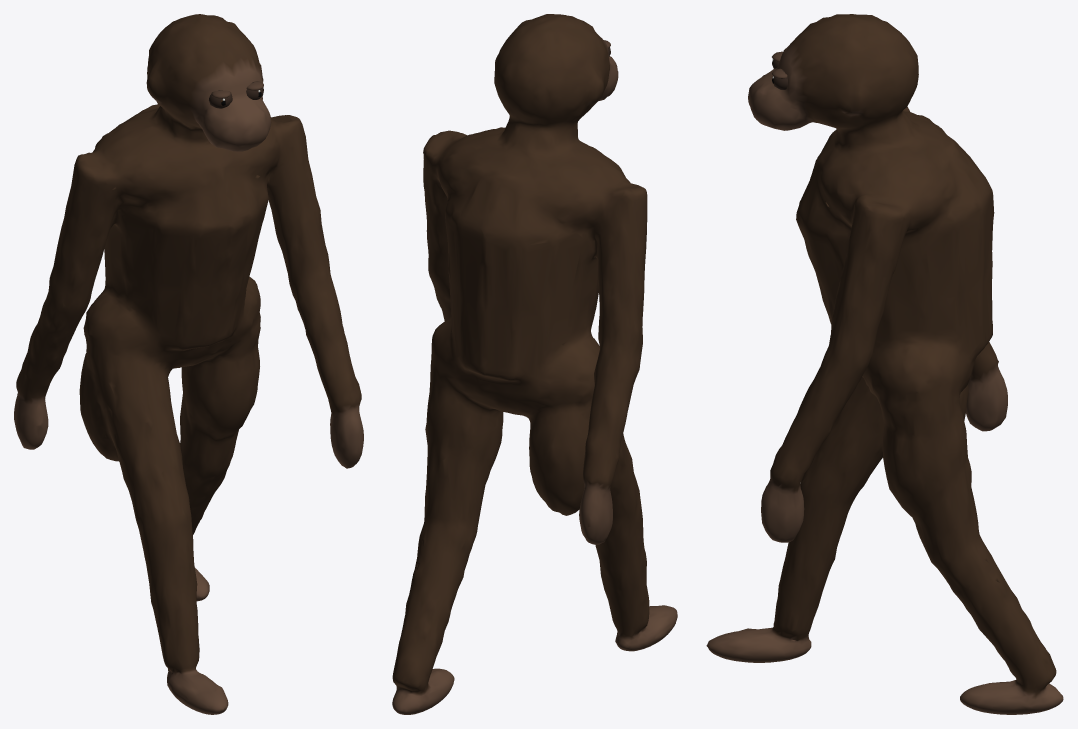
The model's file is AustralopithecusAfarensis.fbx.
3 renders of one model, left to right at view 1: azimuth 30°, elevation 25°; view 2: azimuth 150°, elevation 25°; view 3: azimuth 270°, elevation 25°, orthographic. The views are drawn at different scales.
Visible parts, largest first — view 1: AustralopithecusAfarensis; view 2: AustralopithecusAfarensis; view 3: AustralopithecusAfarensis.
Part boxes in pixels (bbox=[...]): AustralopithecusAfarensis: bbox=[14, 14, 363, 714]; AustralopithecusAfarensis: bbox=[392, 14, 677, 714]; AustralopithecusAfarensis: bbox=[706, 14, 1063, 714].
Size of the model in its own units: 0.472 by 1.17 by 0.5661.
